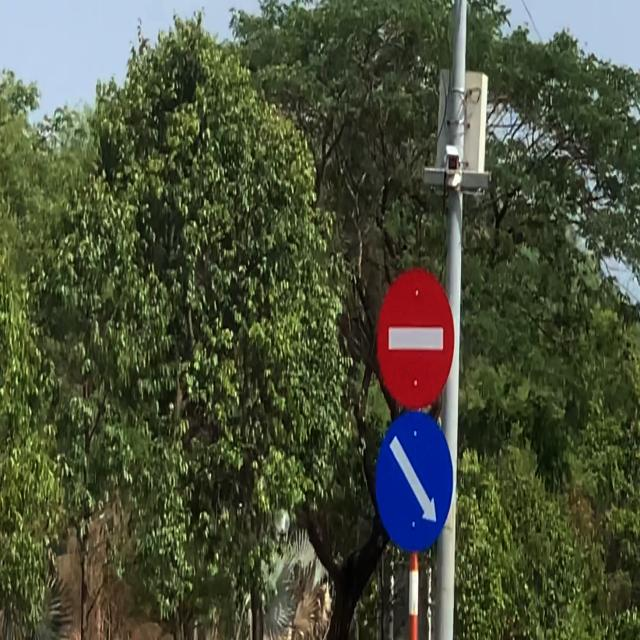Cam nguoc chieu: (376, 265, 455, 409)
Hieu lenh: (374, 411, 454, 553)
